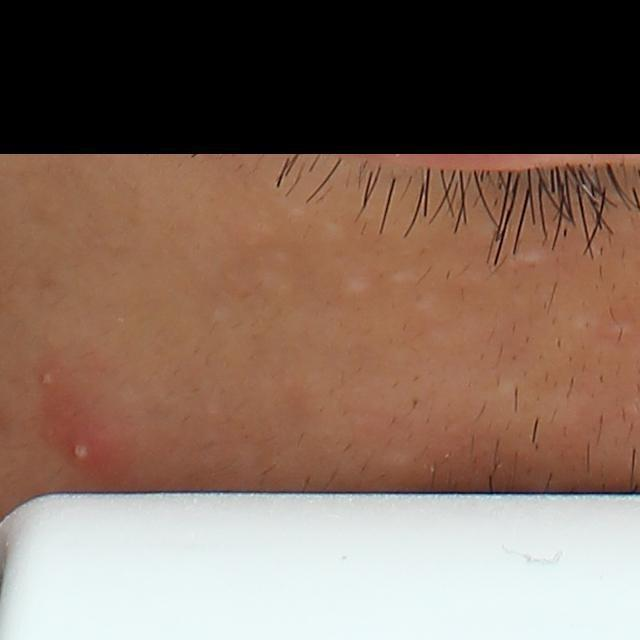hypertrophic_scar: (506, 242, 561, 268), (249, 269, 293, 299), (335, 272, 378, 301), (562, 309, 603, 334), (282, 203, 313, 227), (384, 268, 423, 287), (407, 293, 441, 313), (322, 218, 348, 237)
pustule: (62, 423, 112, 471), (34, 361, 65, 396)
